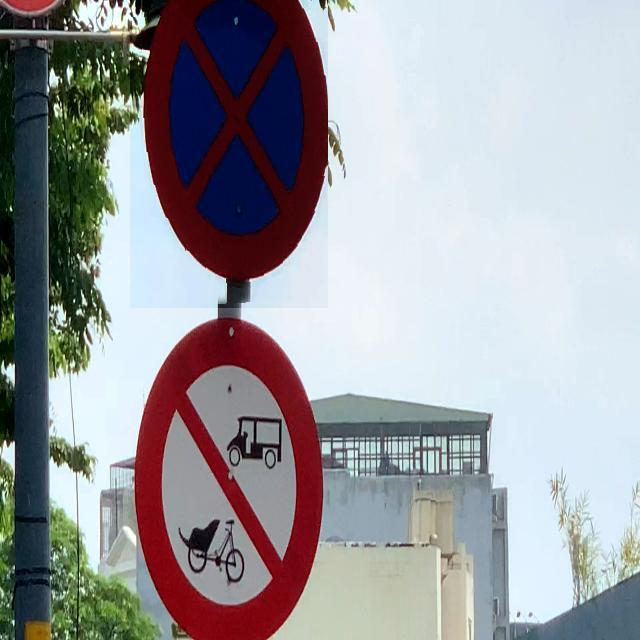P-130: (130, 0, 328, 308)
